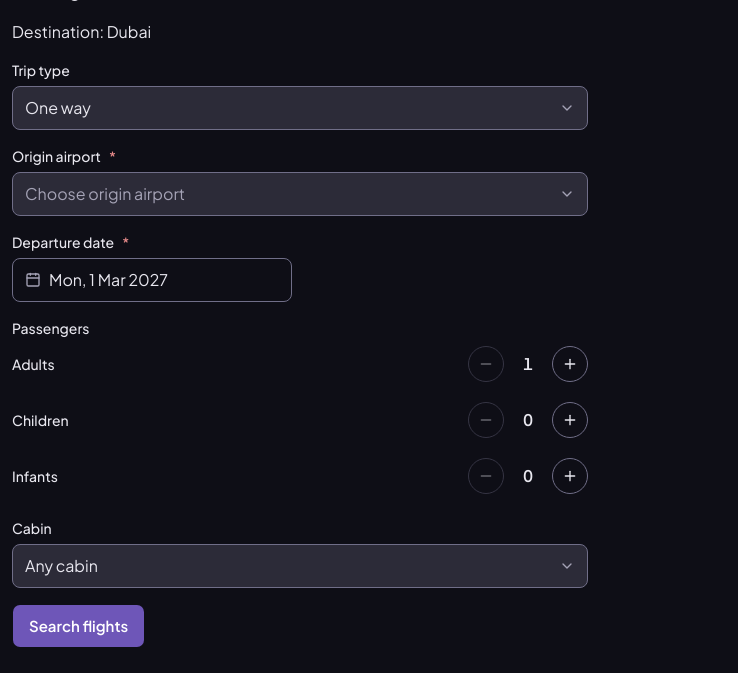
Test: shows "no flights found" when nothing matches
Press Enter in the dropdown labelled "Choose origin airport", box [12,172,588,216]
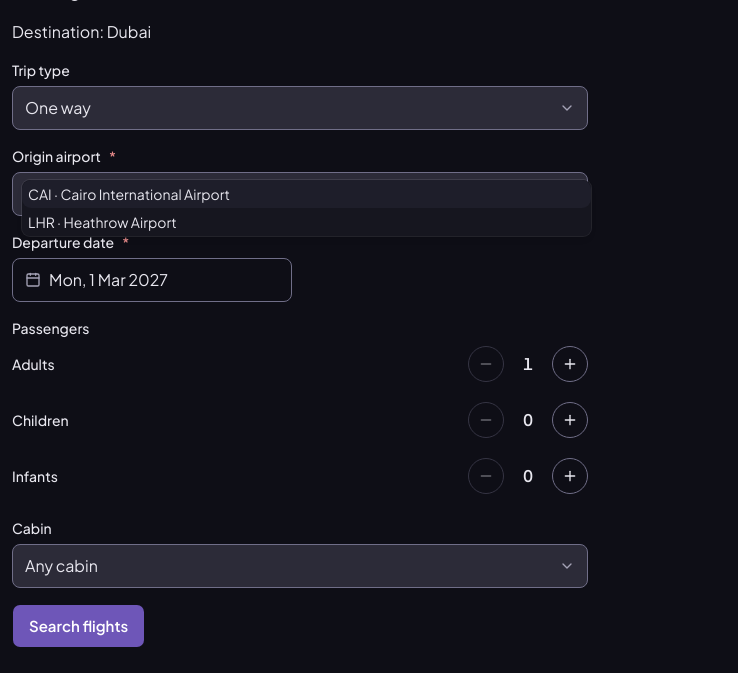
Click the option "LHR · Heathrow Airport": {"x": 102, "y": 222} [28,213,177,231]
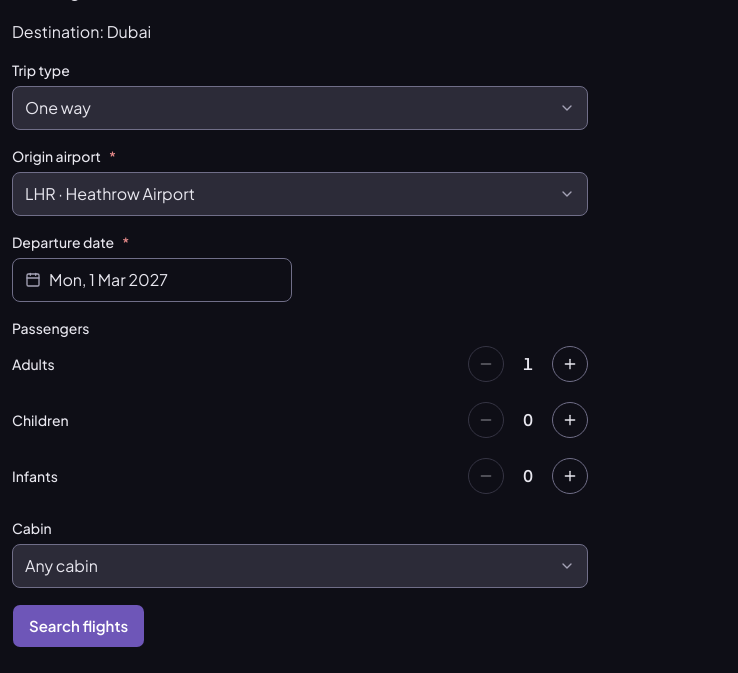
Click the button "Search flights": {"x": 79, "y": 626} [12,604,145,648]
(page scrolled)
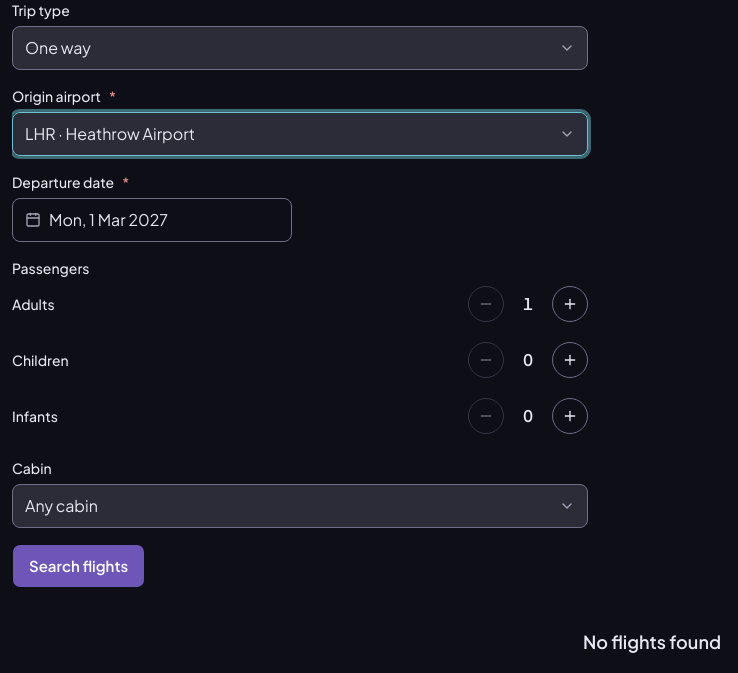
Result: the heading "No flights found" is shown at [583,628,721,656]
